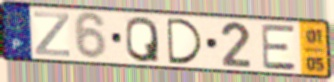2: (221, 20, 256, 69)
6: (72, 10, 110, 63)
D: (164, 16, 206, 66)
E: (259, 24, 299, 72)
Q: (124, 15, 162, 64)
Z: (32, 10, 72, 59)
